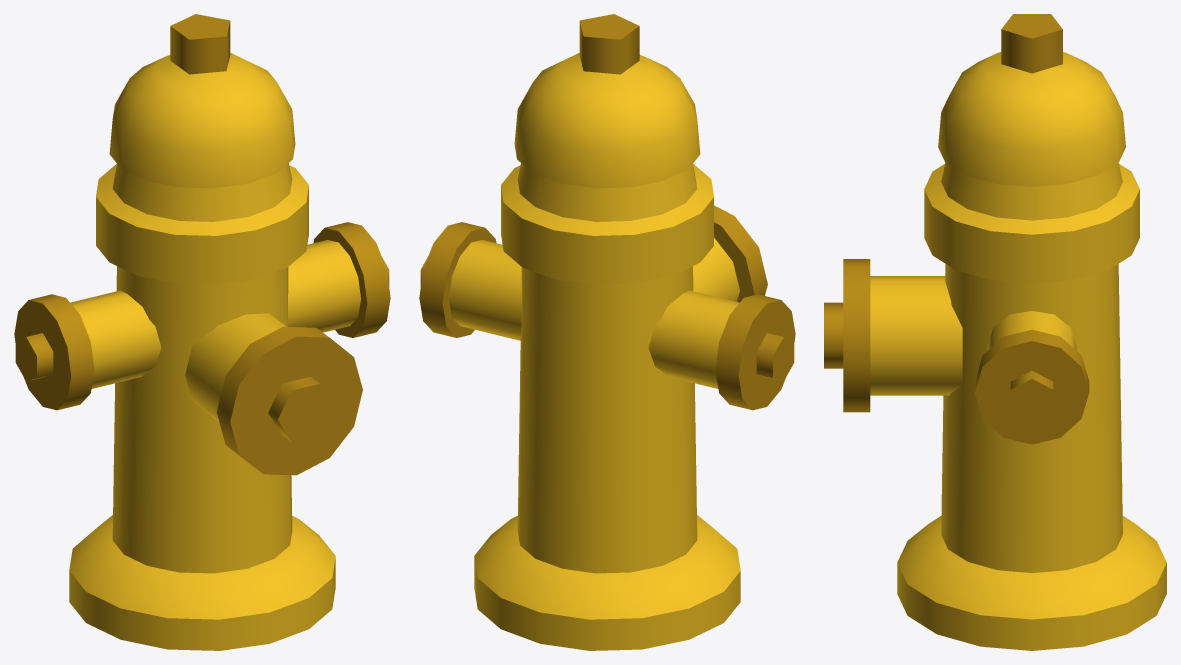
Rendered from hidrante-amarelo.glb.
3 views of the same model, side by side, from view 1: azimuth 30°, elevation 25°; view 2: azimuth 150°, elevation 25°; view 3: azimuth 270°, elevation 25° (orthographic).
Visible parts, largest first — view 1: Hidrante; view 2: Hidrante; view 3: Hidrante.
Part boxes in pixels (x1,y1,x2,y2): Hidrante: (14,14,390,650); Hidrante: (419,14,795,650); Hidrante: (824,14,1166,650).
Size of the model in its own units: 0.53 by 0.815 by 0.445.
